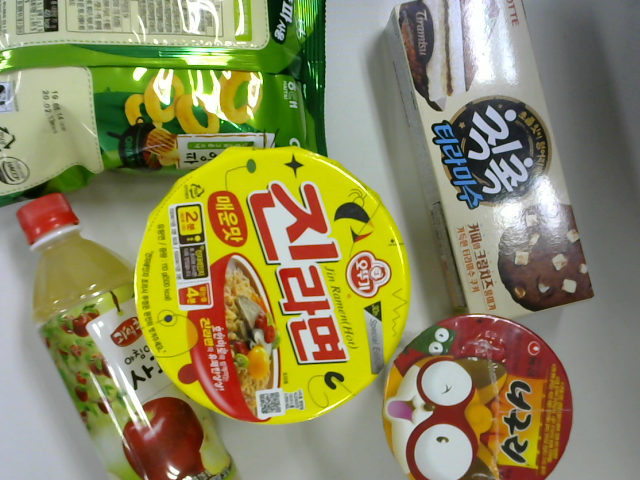Chicchok_Tiramisu: (381, 1, 599, 324)
Grilled_Onions: (1, 1, 336, 218)
Jinlamyeon_Hot_Taste_Large_Cup: (131, 143, 416, 429)
Morning_Apple_500ml: (15, 185, 245, 480)
Raccoon: (379, 316, 580, 480)
